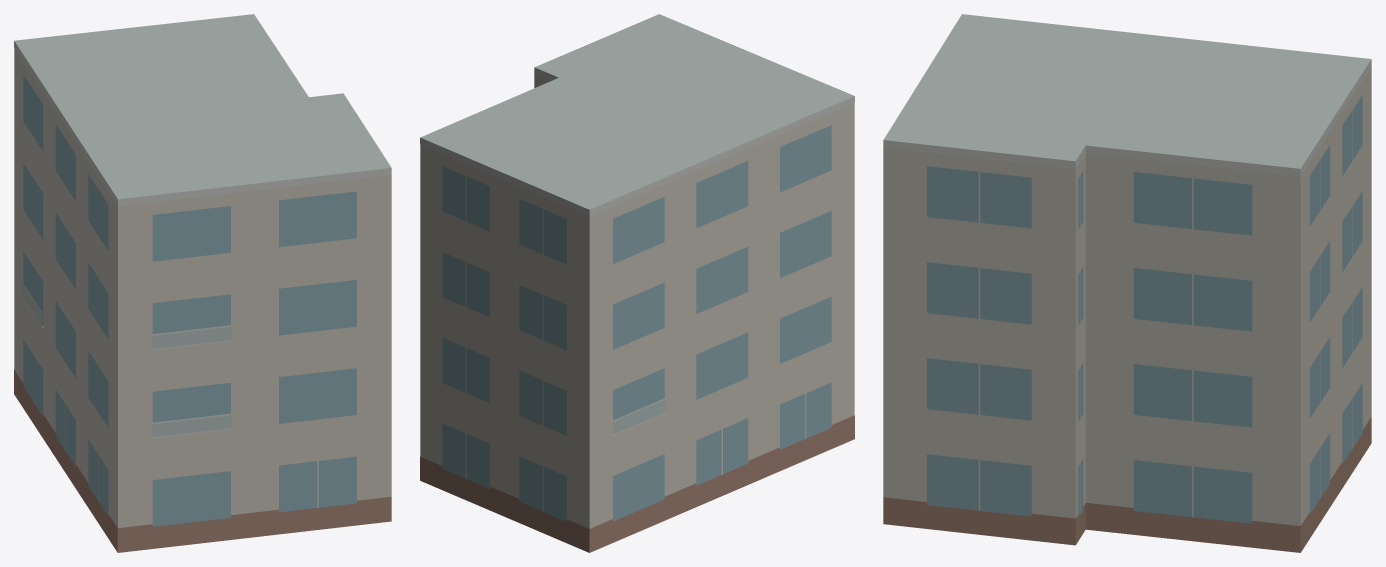
File: survey-upis-32831623.glb
3 renders of one model, left to right at view 1: azimuth 30°, elevation 25°; view 2: azimuth 150°, elevation 25°; view 3: azimuth 270°, elevation 25°, orthographic. The views are drawn at different scales.
Visible parts, largest first — view 1: survey-upis-32831623.tmp; view 2: survey-upis-32831623.tmp; view 3: survey-upis-32831623.tmp.
Part boxes in pixels (box(x1,y1,x2,y2)): survey-upis-32831623.tmp: box(14, 14, 391, 552); survey-upis-32831623.tmp: box(420, 14, 854, 552); survey-upis-32831623.tmp: box(883, 14, 1371, 552).
Size of the model in its own units: 10.64 by 12.3 by 14.18.
